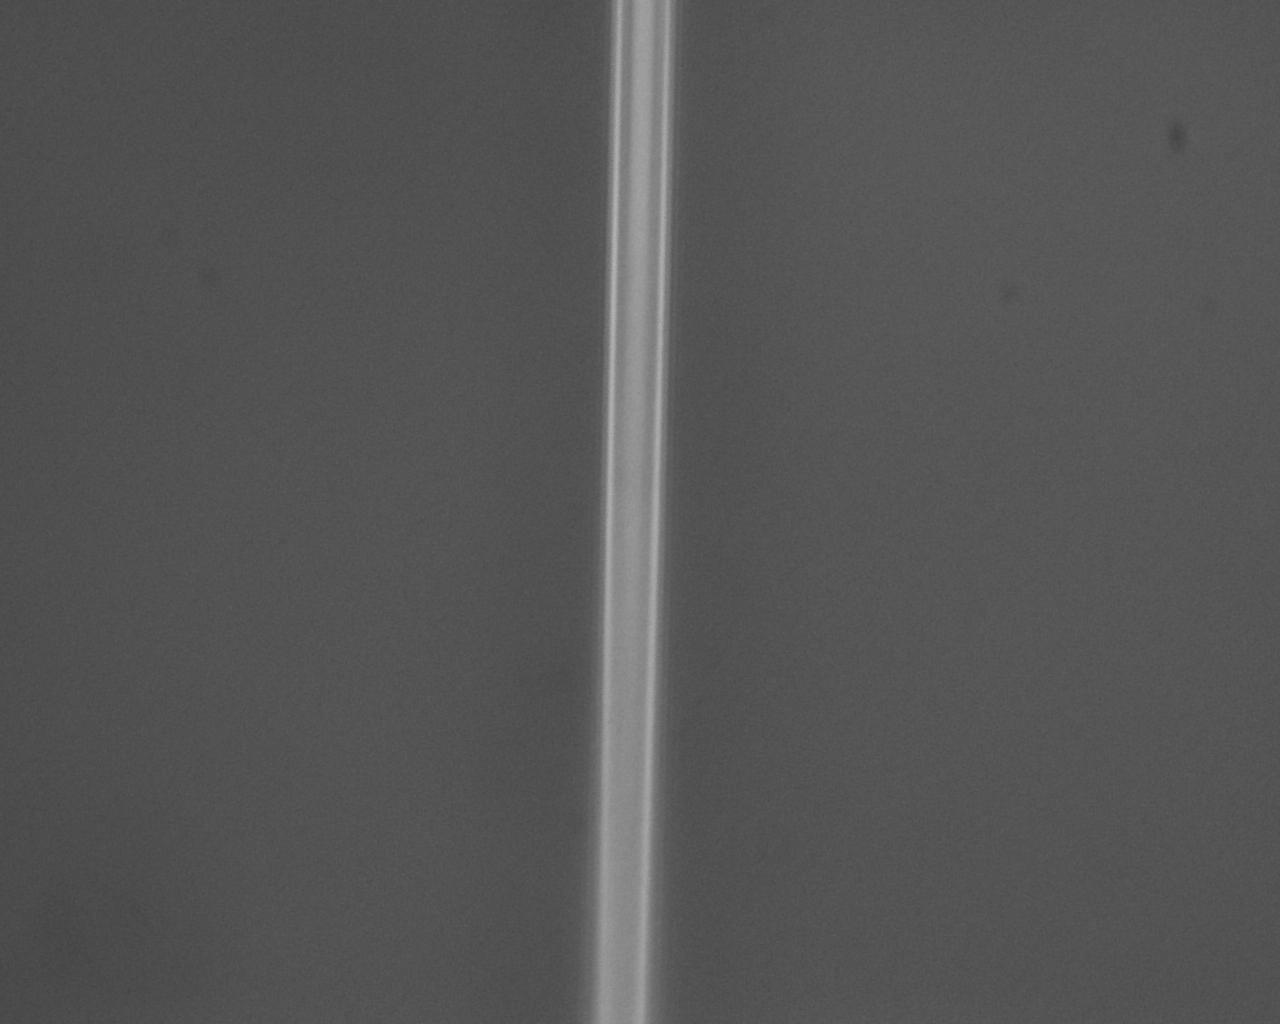fiber: (56, 368, 539, 1024), (704, 957, 1280, 1024)
